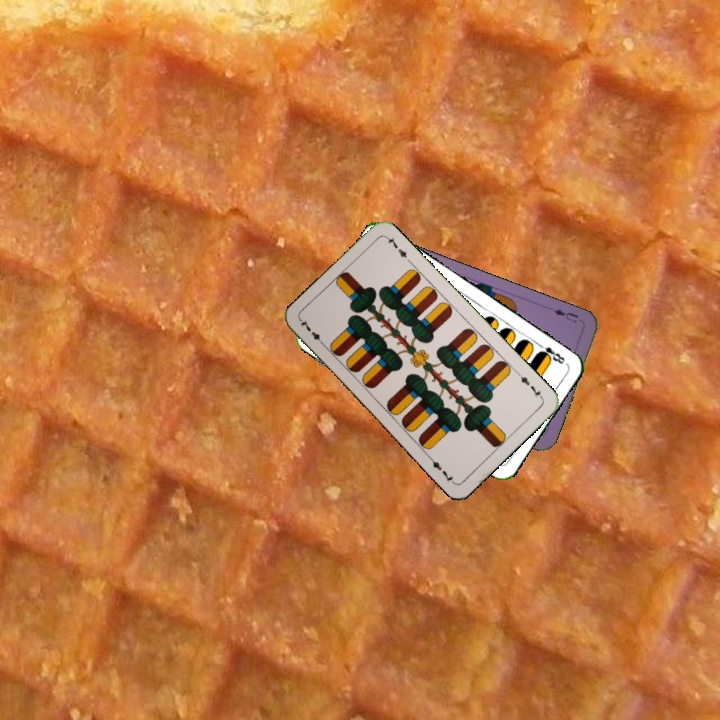E7: (514, 368, 545, 401), (297, 316, 328, 349)
E8: (533, 339, 567, 367)
EU: (550, 305, 581, 325)
